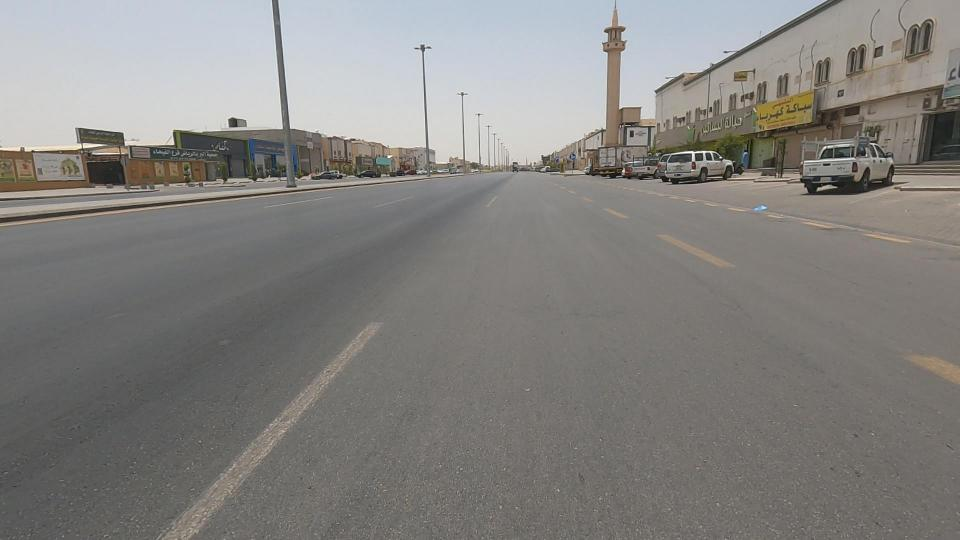BAD_BILLBOARD: (627, 113, 726, 168)
